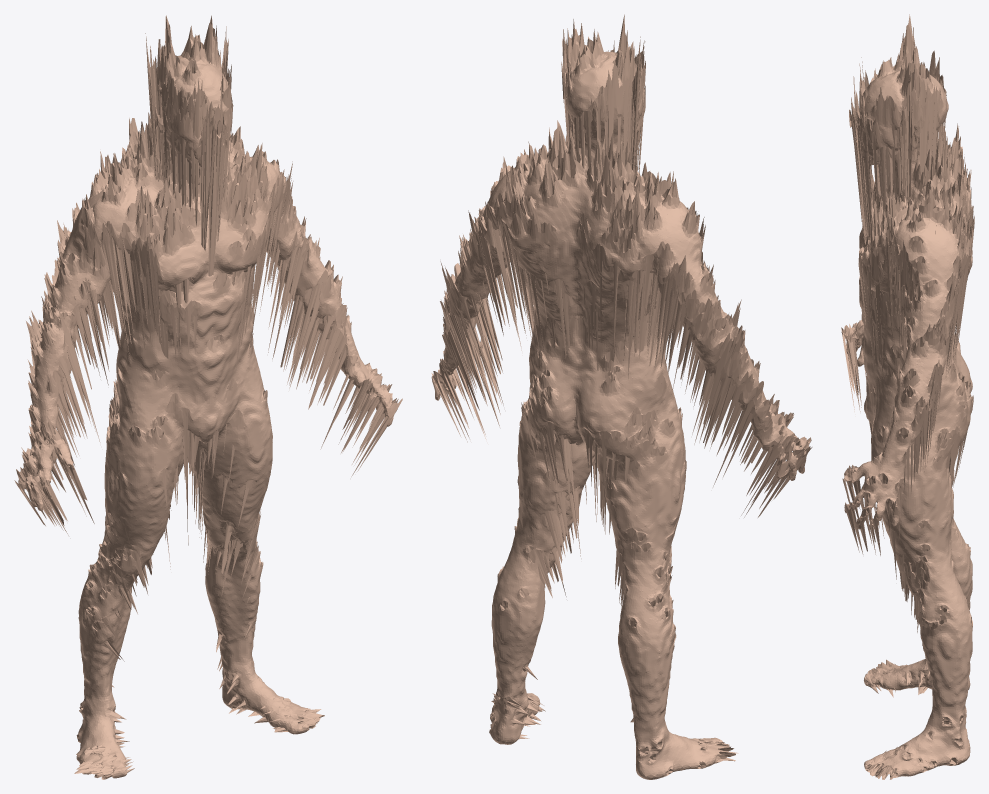
Rendered from male-v4.glb.
3 views of the same model, side by side, from view 1: azimuth 30°, elevation 25°; view 2: azimuth 150°, elevation 25°; view 3: azimuth 270°, elevation 25° (orthographic). The views are drawn at different scales.
Visible parts, largest first — view 1: world; view 2: world; view 3: world.
Part boxes in pixels (x1,y1,x2,y2): world: (14, 15, 402, 779); world: (431, 14, 812, 779); world: (841, 14, 974, 779).
Bounding box in the file's own units: 0.882 × 1.69 × 0.2905.
